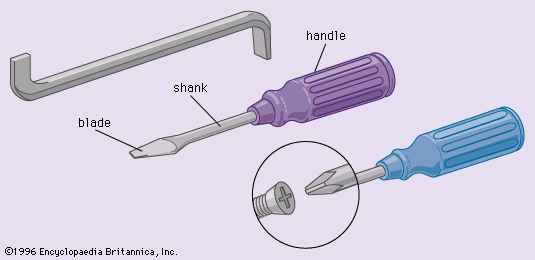screwdriver: (129, 49, 396, 162)
